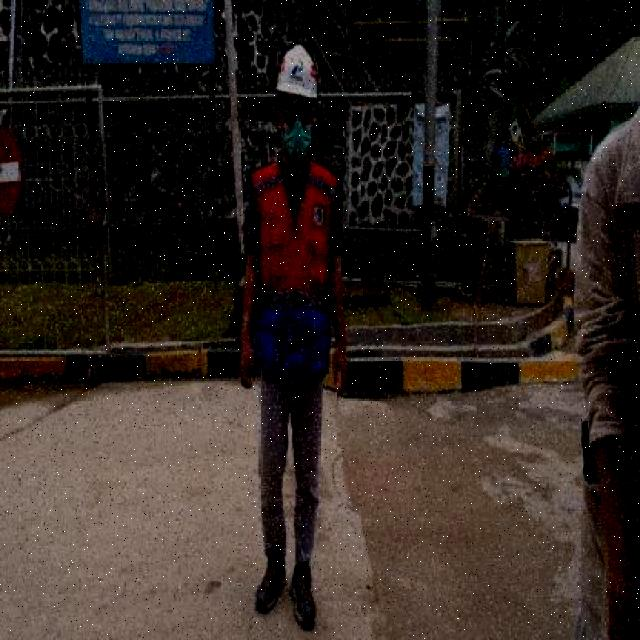Boots: (246, 538, 291, 614), (288, 562, 327, 630)
Helmet: (270, 42, 327, 104)
